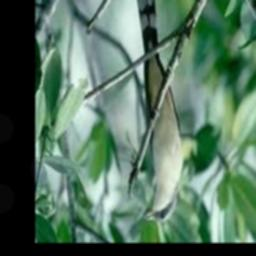Cuckoo: (133, 0, 182, 223)
